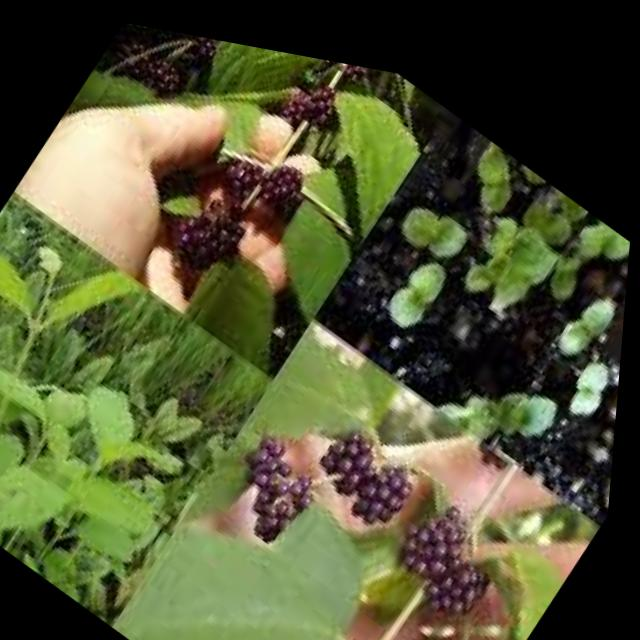Flower: (302, 380, 448, 531), (223, 408, 338, 548), (409, 482, 518, 601), (175, 178, 267, 283), (250, 134, 327, 225), (287, 68, 358, 143), (196, 132, 264, 206), (291, 612, 434, 640)
